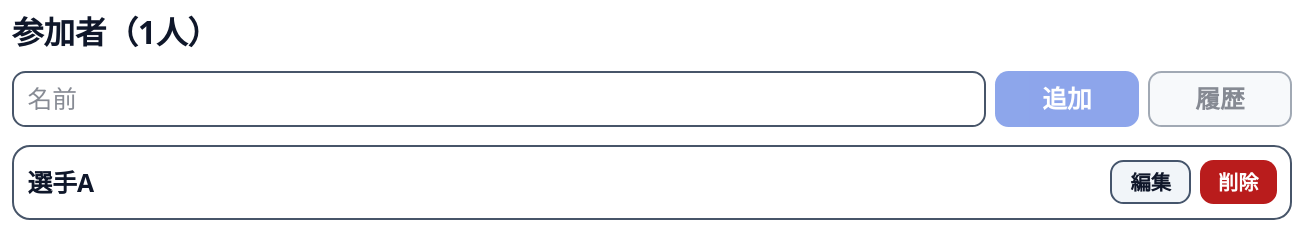
ParticipantsTab › 参加者名を編集して保存できる
The image size is (1304, 249).
# "編集" ボタンをクリック
Click the button "編集" at {"x": 1151, "y": 182}, box [1110, 160, 1191, 204]
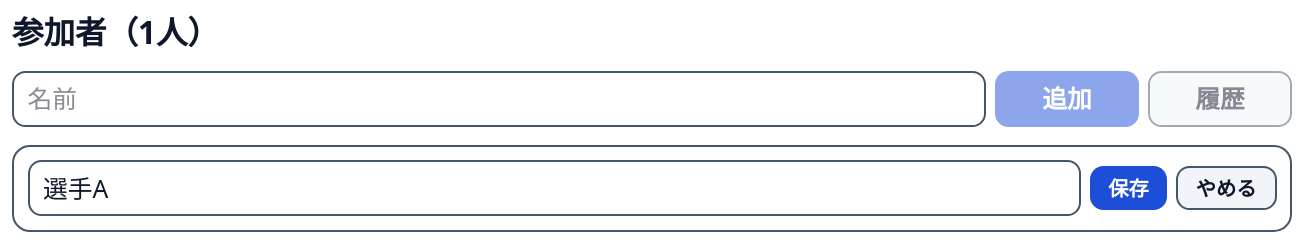
# 編集 input が表示され、現在の名前がセットされている
Replace the text in the field named "参加者名を編集" with "選手B" at {"x": 554, "y": 188}, box [28, 160, 1081, 216]
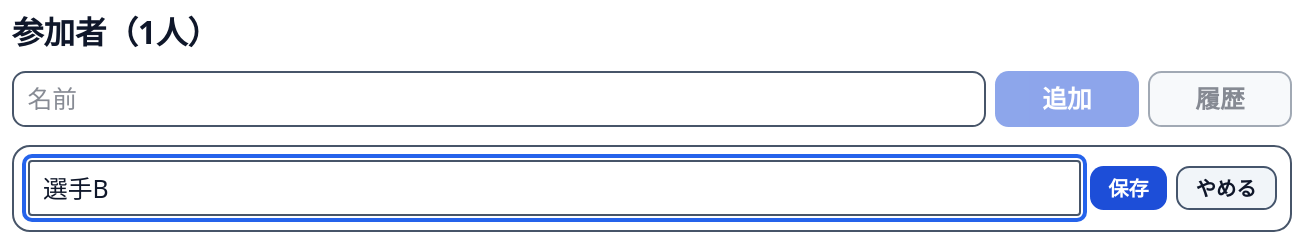
Click the button "保存" at {"x": 1128, "y": 188}, box [1090, 166, 1167, 210]
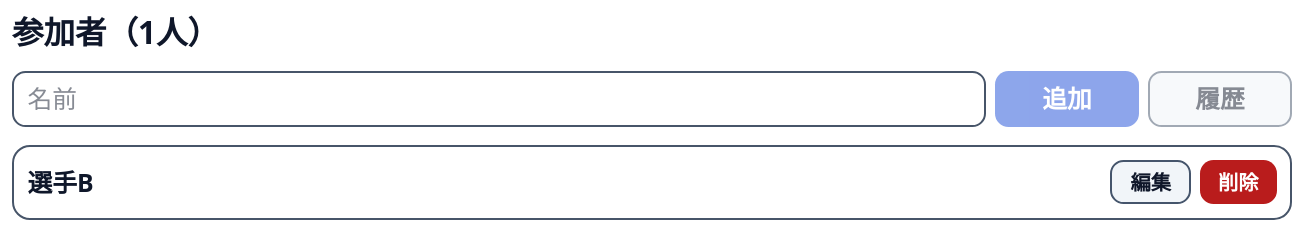
Check: the text "選手A" is not shown
Check: the text "選手B" is shown, box [28, 166, 94, 199]
